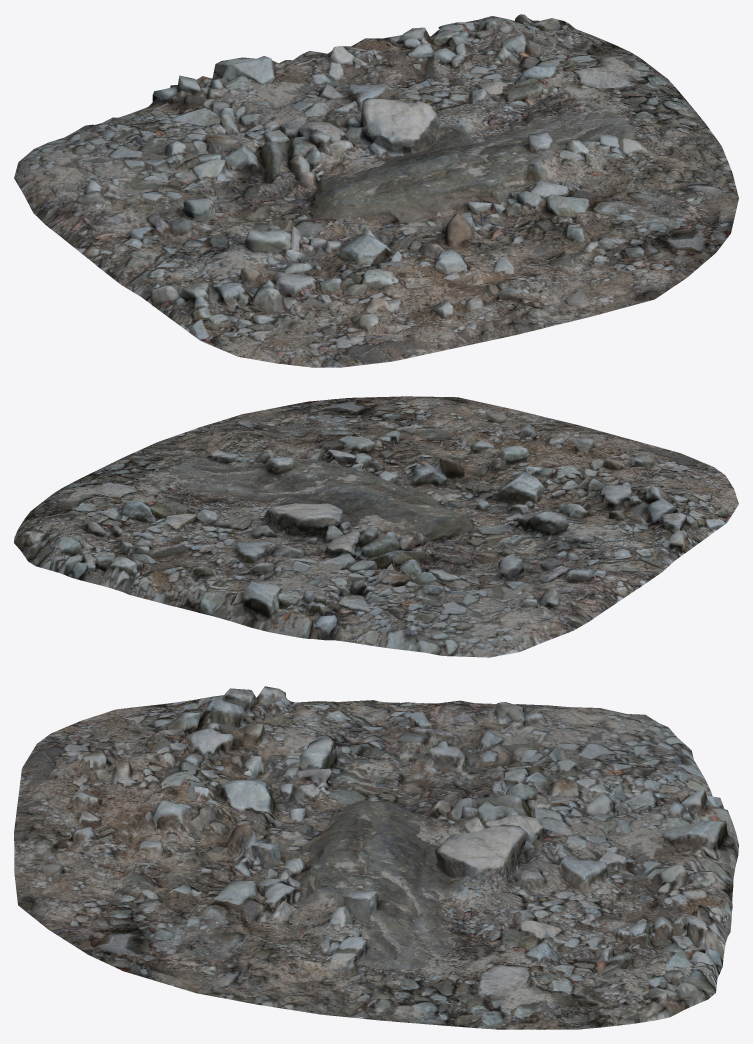
File: sm_Road_01_02.fbx
3 views of the same model, one above another, from view 1: azimuth 30°, elevation 25°; view 2: azimuth 150°, elevation 25°; view 3: azimuth 270°, elevation 25° (orthographic). The views are drawn at different scales.
Parts seen in each view (by area): view 1: sm_Road_01_02_LOD0; view 2: sm_Road_01_02_LOD0; view 3: sm_Road_01_02_LOD0.
Part boxes in pixels (bbox=[...]): sm_Road_01_02_LOD0: bbox=[14, 14, 738, 367]; sm_Road_01_02_LOD0: bbox=[14, 396, 738, 657]; sm_Road_01_02_LOD0: bbox=[14, 686, 738, 1029].
Bounding box in the file's own units: 204 × 191 × 14.23.
